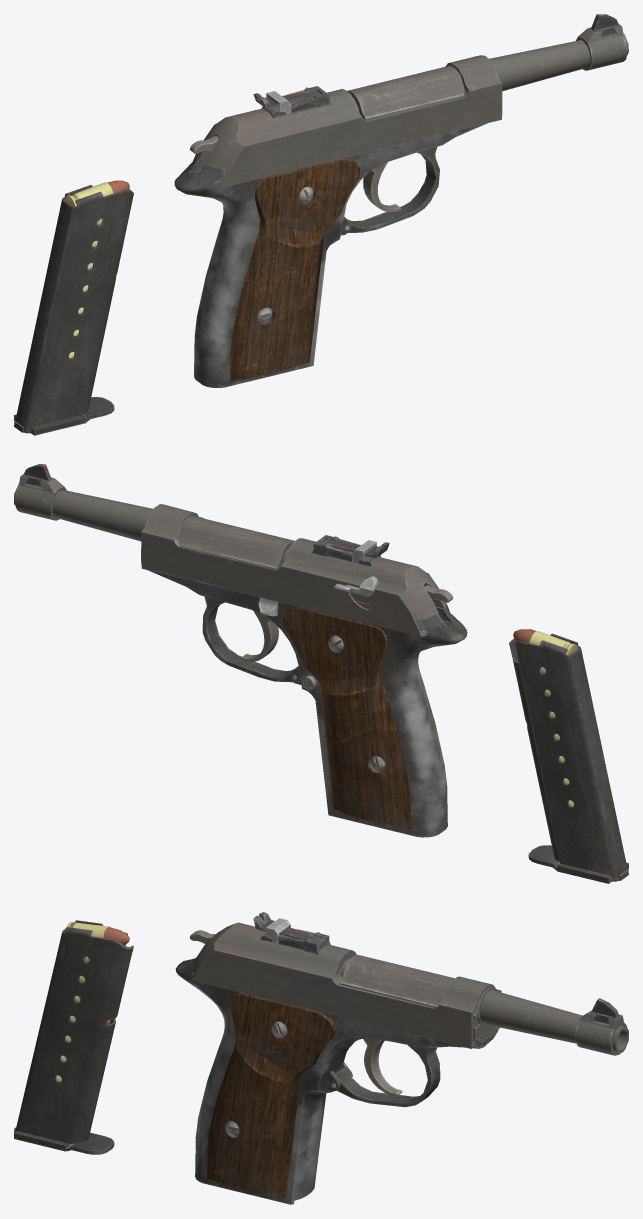
File: pistol_hi.glb
3 views of the same model, one above another, from view 1: azimuth 30°, elevation 25°; view 2: azimuth 150°, elevation 25°; view 3: azimuth 330°, elevation 25° (orthographic).
Visible parts, largest first — view 1: service_pistol_pistol_a, service_pistol_magazine_loaded, service_pistol_slide_a, service_pistol_trigger_a; view 2: service_pistol_pistol_a, service_pistol_magazine_loaded, service_pistol_slide_a, service_pistol_trigger_a; view 3: service_pistol_pistol_a, service_pistol_magazine_loaded, service_pistol_slide_a, service_pistol_trigger_a.
Boxes of the visible parts, <box> form: service_pistol_pistol_a: <box>174,14,628,387</box>; service_pistol_magazine_loaded: <box>14,180,133,435</box>; service_pistol_slide_a: <box>197,55,502,187</box>; service_pistol_trigger_a: <box>363,162,401,212</box>; service_pistol_pistol_a: <box>14,464,467,837</box>; service_pistol_magazine_loaded: <box>509,629,628,883</box>; service_pistol_slide_a: <box>141,504,449,636</box>; service_pistol_trigger_a: <box>240,611,278,661</box>; service_pistol_pistol_a: <box>175,954,628,1204</box>; service_pistol_magazine_loaded: <box>14,920,133,1154</box>; service_pistol_slide_a: <box>191,912,501,1048</box>; service_pistol_trigger_a: <box>363,1038,402,1096</box>.
Size of the model in its own units: 0.3016 by 0.1307 by 0.0318.
1 material, 1 textured.
